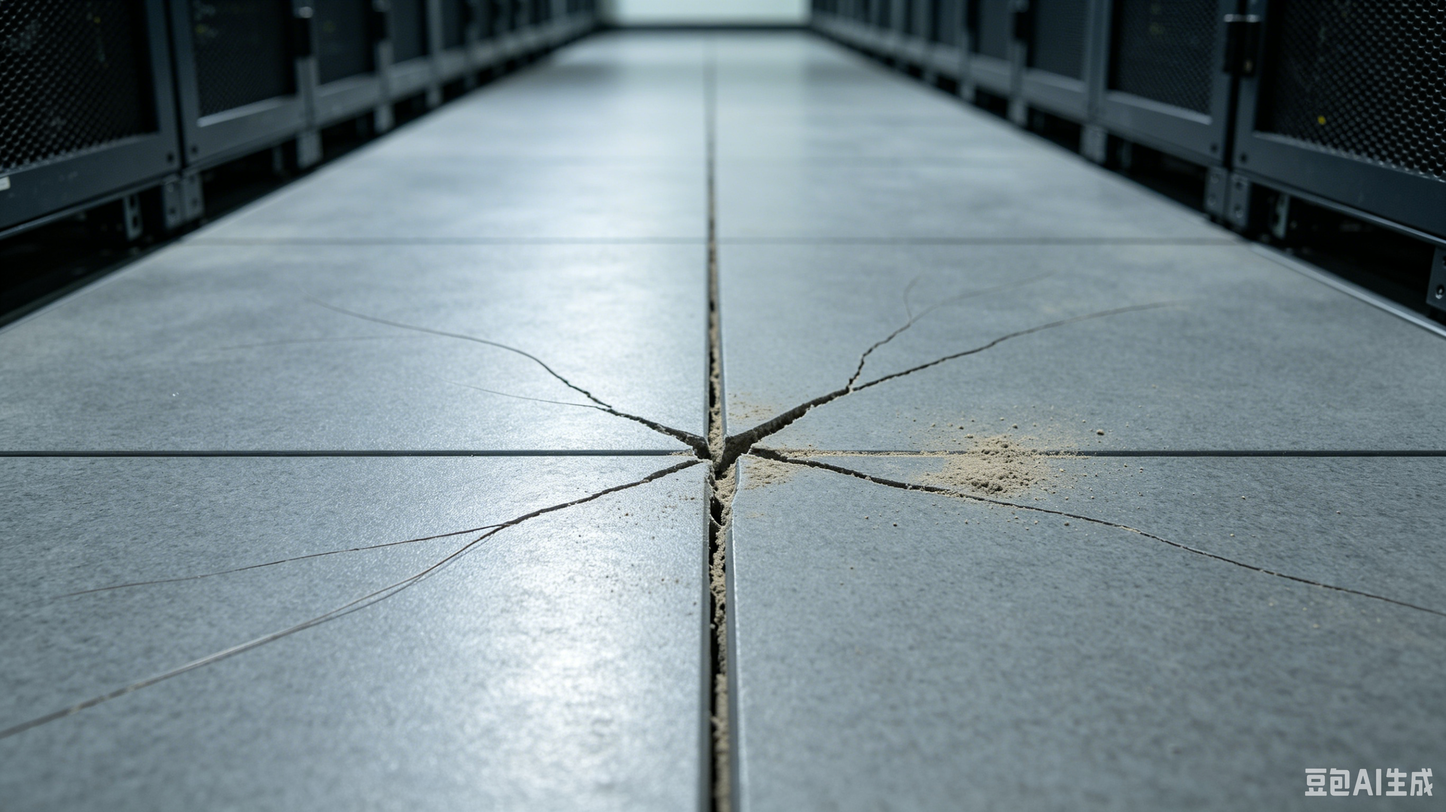floor_defect: (459, 327, 1047, 525), (1053, 505, 1441, 621)
